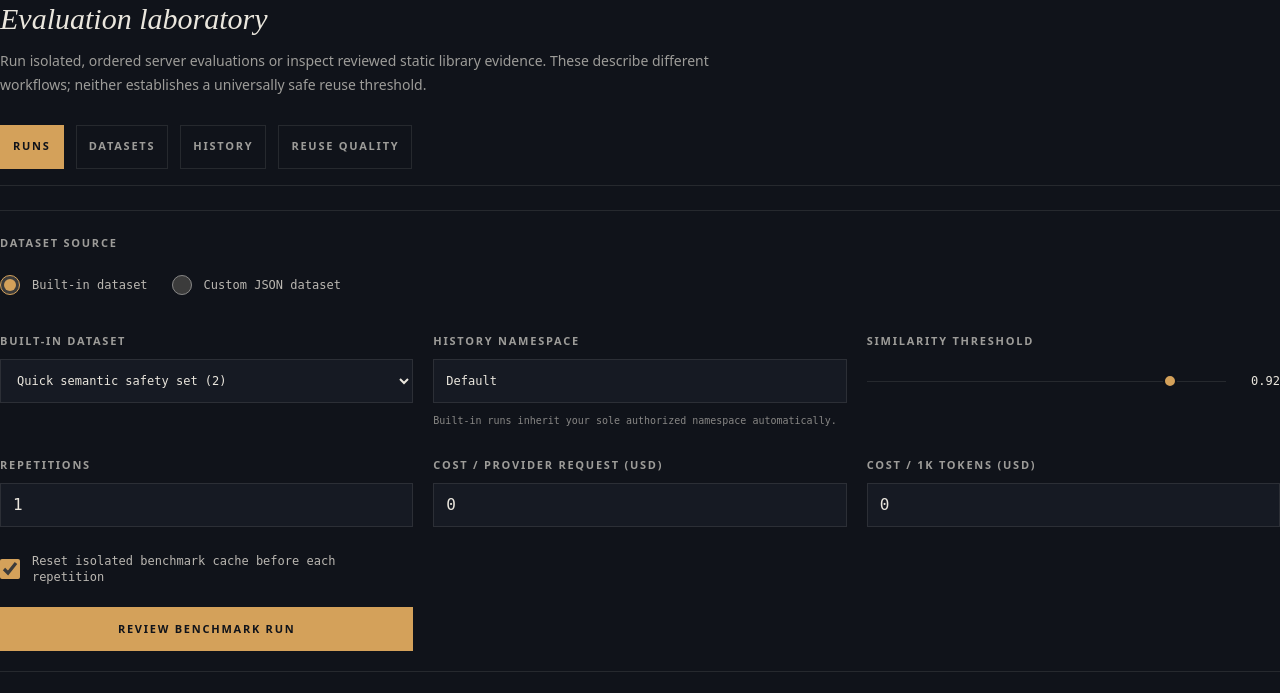
evaluation admission feedback › keeps unrelated HTTP 422 failures distinct
Click the button "Review benchmark run": point(207, 629) [0,607,413,651]
(page scrolled)
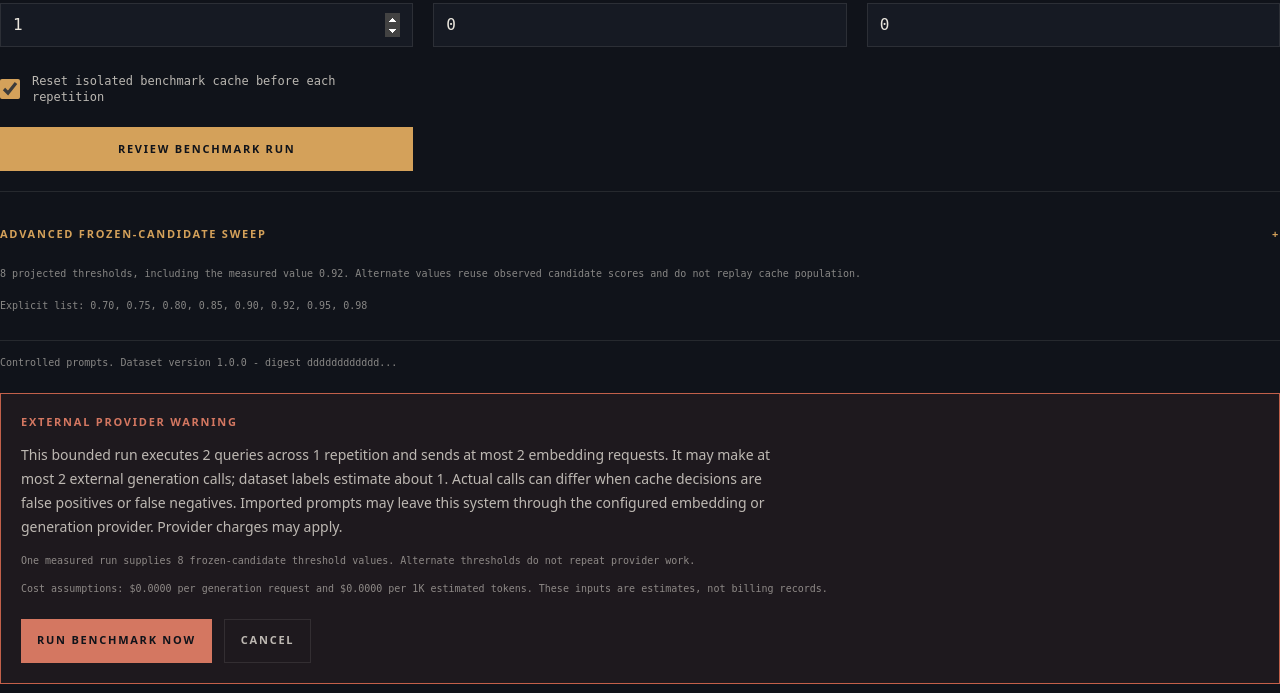
Click the button "Run benchmark now": point(116, 640) [21,618,212,662]
(page scrolled)
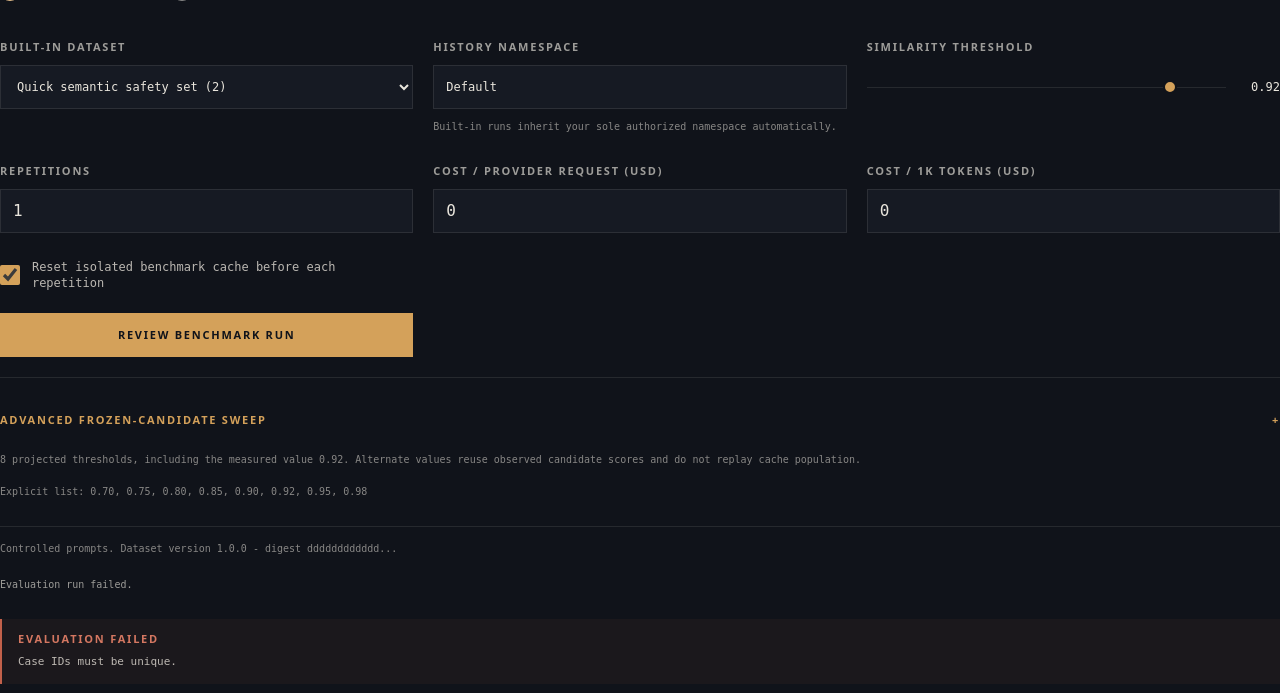
expect the text "Evaluation failed" is shown: met, box [18,631,159,646]
expect the text "Case IDs must be unique." is shown: met, box [18,654,177,668]
